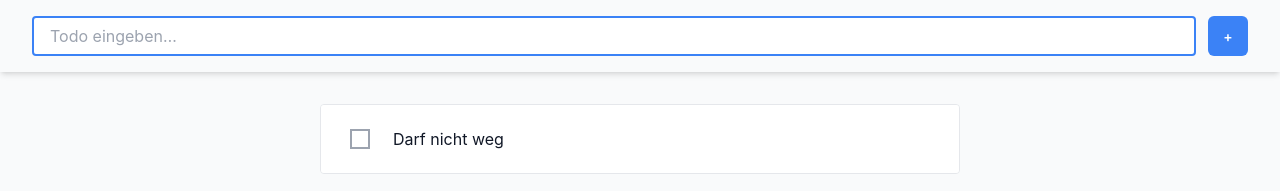
Test: FEAT-4 – Todo bearbeiten (Inline-Editing) › Leerer Titel + Enter verhält sich wie Escape
Double-click the button "Darf nicht weg" at (448, 139), box [393,129,504,149]
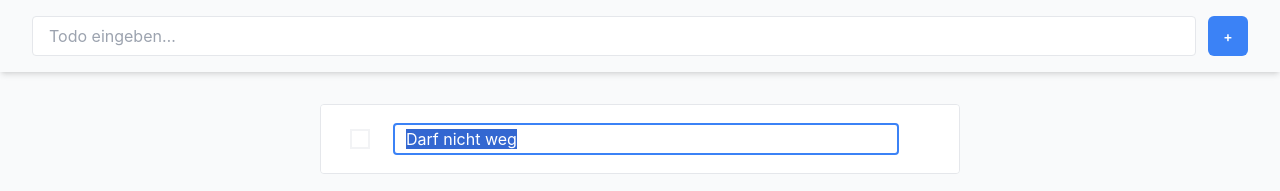
Clear the field named "todo-titel bearbeiten" at (646, 139), box [393,123,899,155]
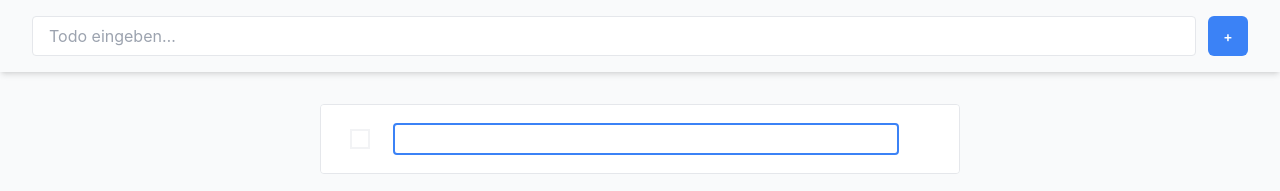
Type keys "[Enter]"
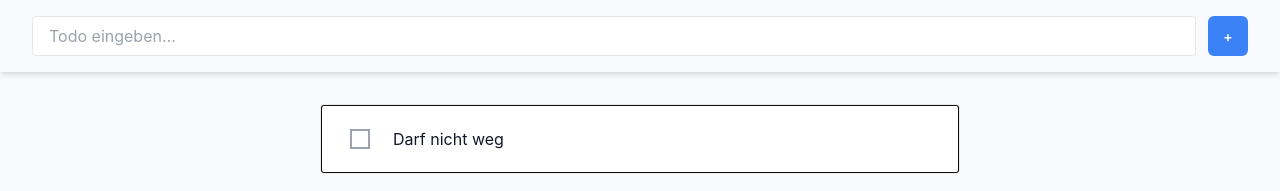
Expected: the button "Darf nicht weg" is shown, [393,129,504,149]
